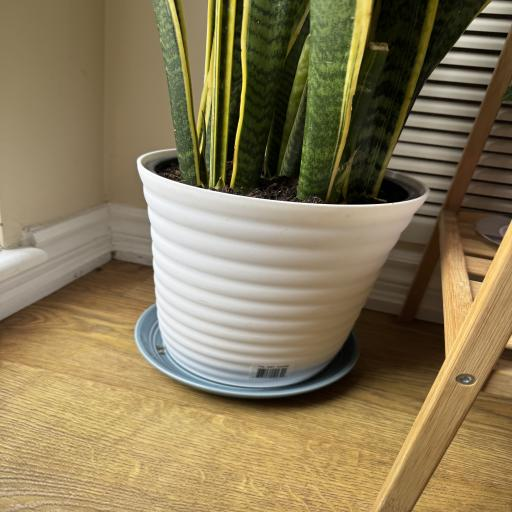Plant Pot: (137, 144, 429, 384)
